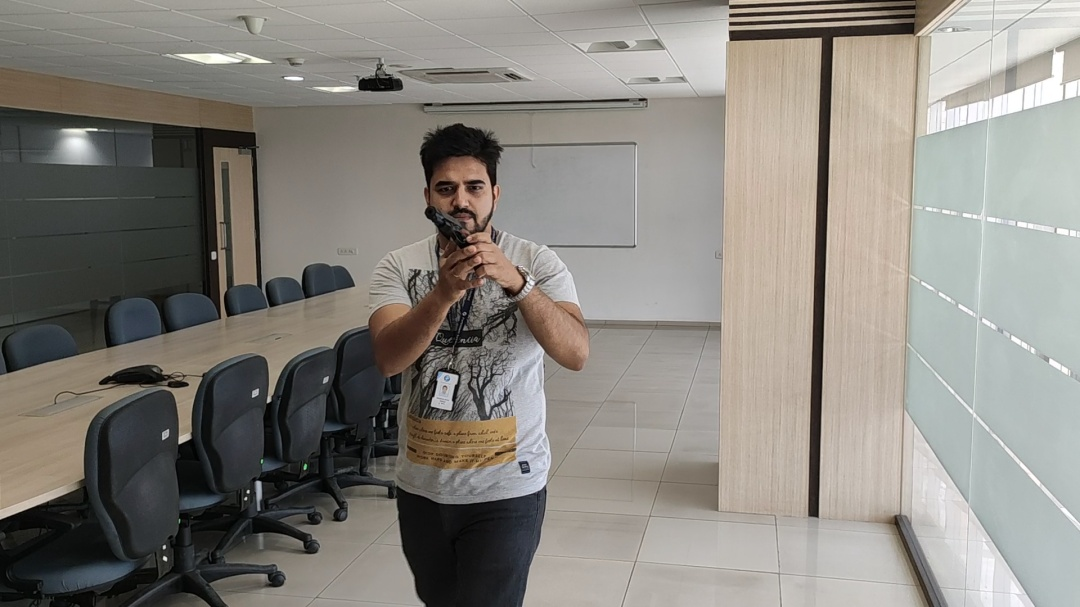gun: (558, 61, 730, 228)
